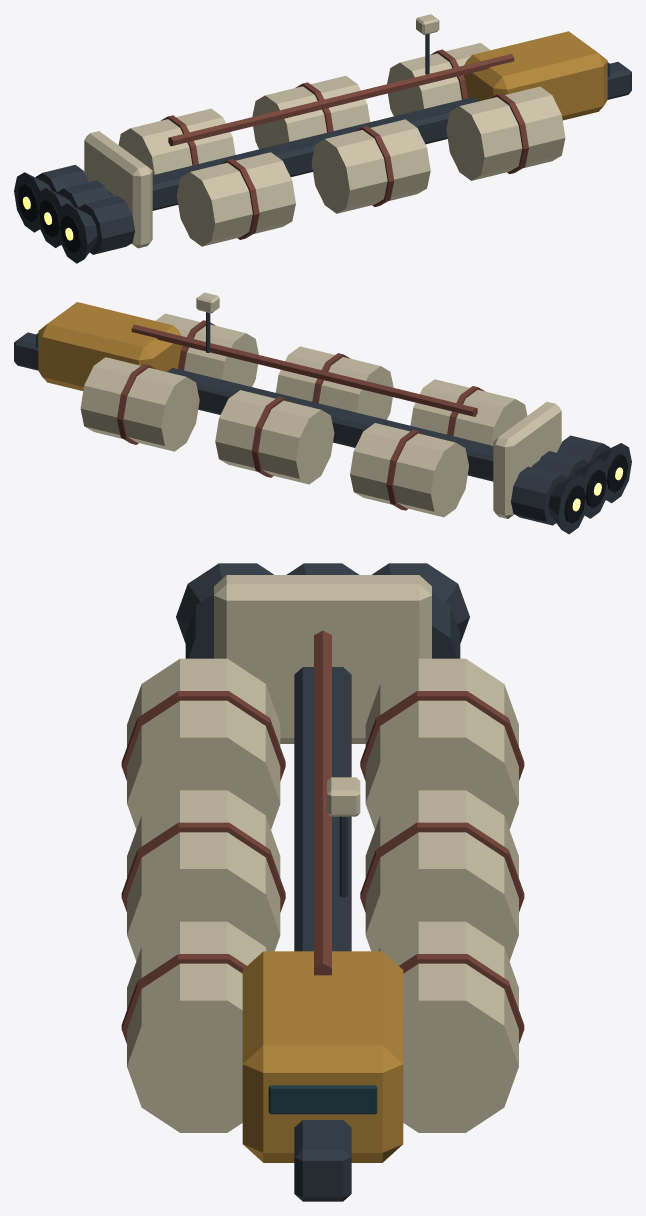
Rendered from amber-reserve.glb.
3 renders of one model, top to bottom at view 1: azimuth 30°, elevation 25°; view 2: azimuth 150°, elevation 25°; view 3: azimuth 270°, elevation 25°, orthographic. The views are drawn at different scales.
Visible parts, largest first — view 1: pressure tank.002, pressure tank.004, pressure tank, forward command, structural spine, pressure tank.003, pressure tank.001, reactor shield, transfer pipe, pressure tank.005, engine jacket, engine bell (+13 smaller); view 2: pressure tank.003, pressure tank.001, pressure tank.005, forward command, structural spine, pressure tank.002, pressure tank, reactor shield, transfer pipe, pressure tank.004, engine jacket.002, engine bell.002 (+13 smaller); view 3: forward command, reactor shield, pressure tank.004, pressure tank.005, pressure tank, pressure tank.001, pressure tank.002, pressure tank.003, structural spine, transfer pipe, bridge glazing, tank band.002 (+10 smaller).
Part boxes in pixels (x1,y1,x2,y2): pressure tank.002: (311,119,430,213); pressure tank.004: (446,86,565,180); pressure tank: (177,152,295,246); forward command: (463,31,607,120); structural spine: (71,61,631,210); pressure tank.003: (252,75,370,149); pressure tank.001: (118,108,235,174); reactor shield: (84,131,152,248); transfer pipe: (168,54,514,146); pressure tank.005: (387,43,490,116); engine jacket: (78,196,134,254); engine bell: (58,203,97,263); pressure tank.003: (215,390,334,484); pressure tank.001: (350,423,468,517); pressure tank.005: (80,357,199,451); forward command: (38,302,182,390); structural spine: (14,332,574,481); pressure tank.002: (275,346,393,419); pressure tank: (410,379,527,445); reactor shield: (493,401,561,518); transfer pipe: (131,324,477,416); pressure tank.004: (155,313,258,386); engine jacket.002: (511,466,567,525); engine bell.002: (548,474,584,534); forward command: (242,951,403,1162); reactor shield: (214,575,431,743); pressure tank.004: (127,921,266,1132); pressure tank.005: (379,921,518,1132); pressure tank: (127,658,280,829); pressure tank.001: (365,658,518,829); pressure tank.002: (127,790,280,960); pressure tank.003: (365,790,518,960); structural spine: (294,667,351,1201); transfer pipe: (314,630,331,975); bridge glazing: (268,1085,377,1114); tank band.002: (121,822,285,912).
Bounding box in the file's own units: 12.91 × 2.89 × 3.88.
